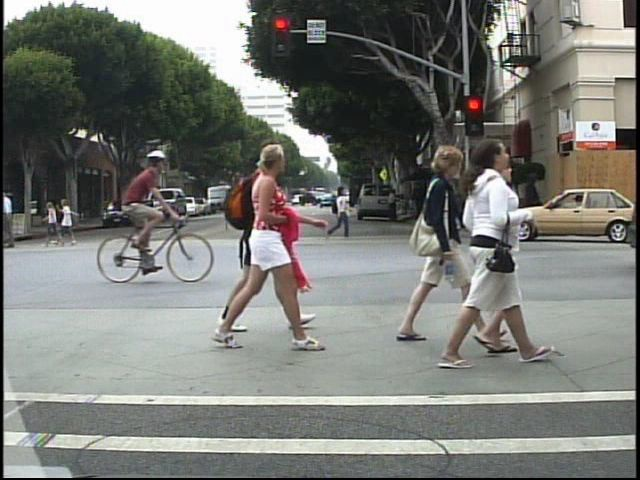person: (448, 136, 543, 375), (213, 142, 321, 350), (386, 142, 476, 353), (445, 158, 520, 361), (236, 148, 290, 343), (108, 145, 173, 275), (320, 183, 354, 245), (427, 177, 455, 239), (4, 187, 23, 251), (386, 187, 402, 223)
